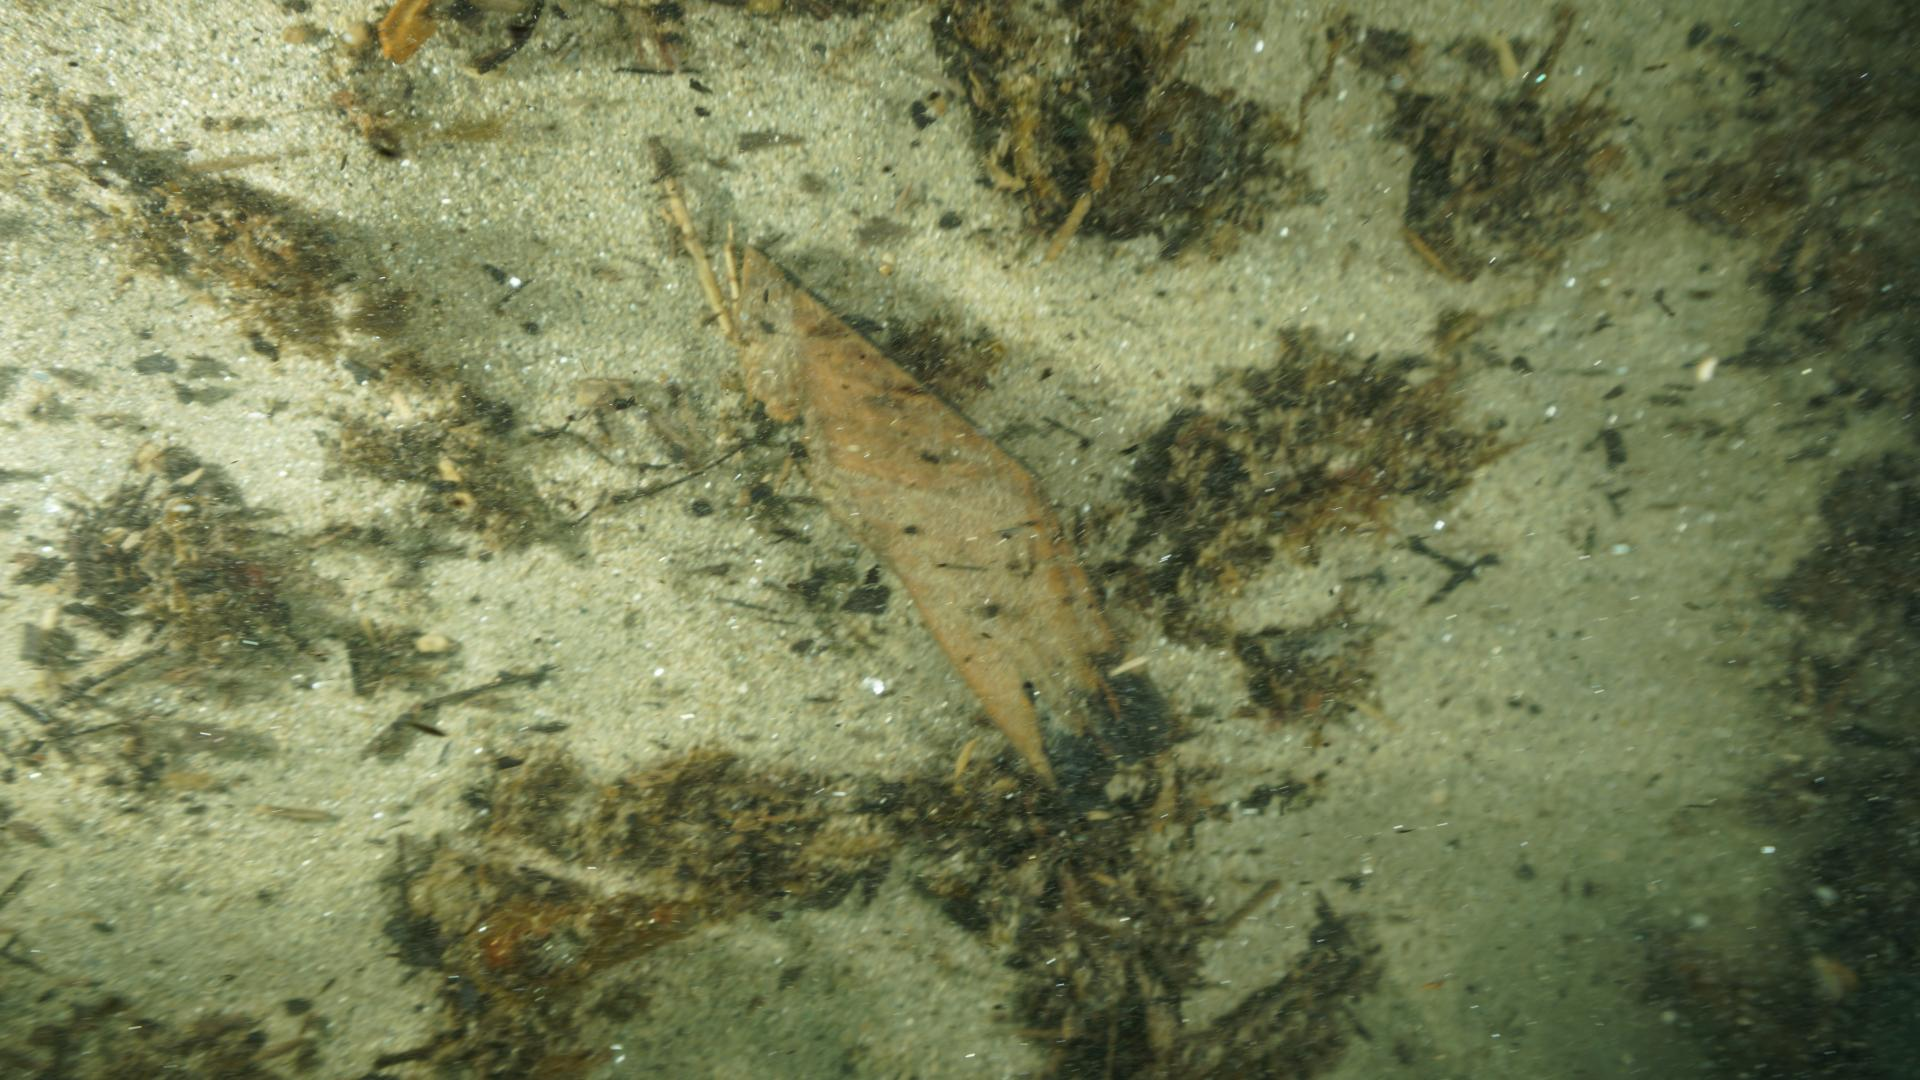wood: (728, 245, 1127, 789)
